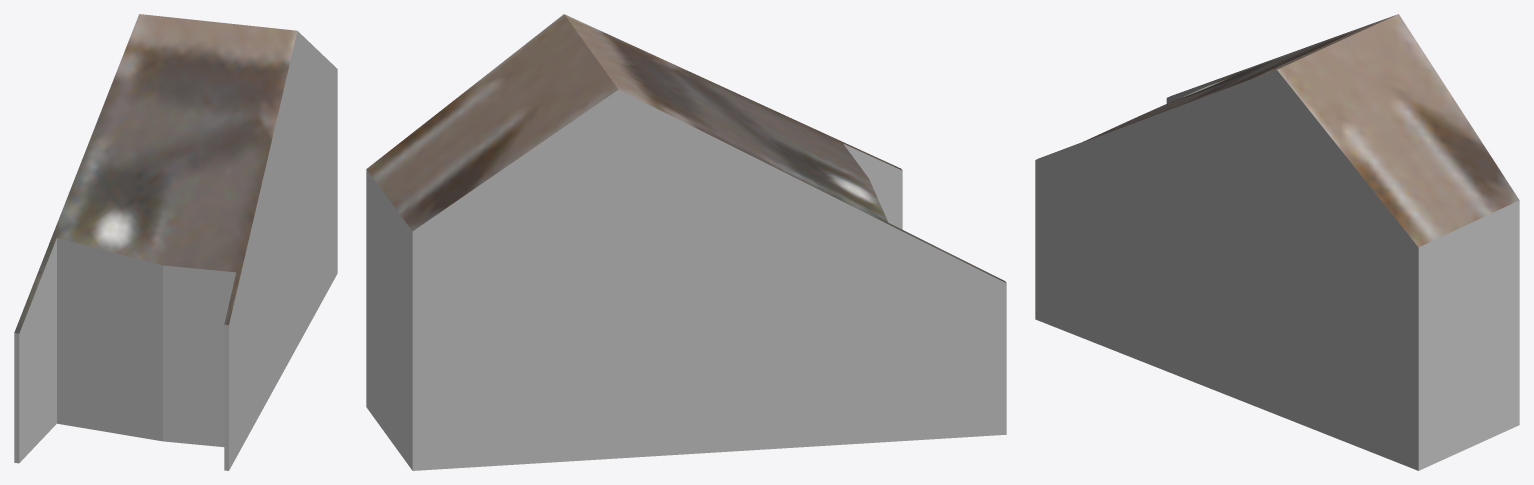
The model's file is DEBW_0010007TvlR.gltf.
The picture shows the model from 3 angles, left to right: view 1: azimuth 30°, elevation 25°; view 2: azimuth 150°, elevation 25°; view 3: azimuth 270°, elevation 25°; orthographic projection. The views are drawn at different scales.
Visible parts, largest first — view 1: Z_UP; view 2: Z_UP; view 3: Z_UP.
Part boxes in pixels (left/top/right/bottom): Z_UP: left=14, top=14, right=337, bottom=470; Z_UP: left=366, top=14, right=1006, bottom=470; Z_UP: left=1035, top=14, right=1519, bottom=470.
Bounding box in the file's own units: 16.31 × 11.31 × 14.33.
Materials: 2 (1 with a texture image).
